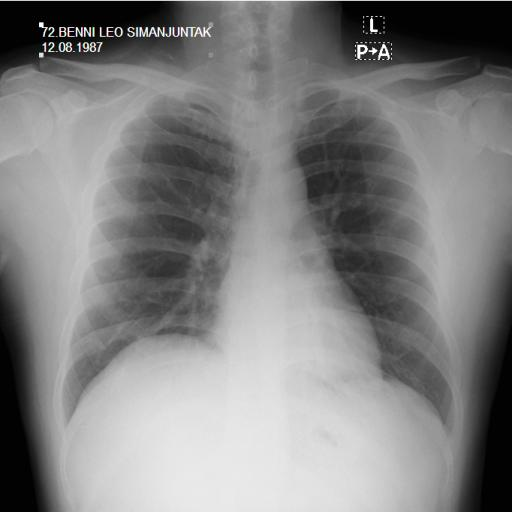normal: (49, 53, 462, 442)
